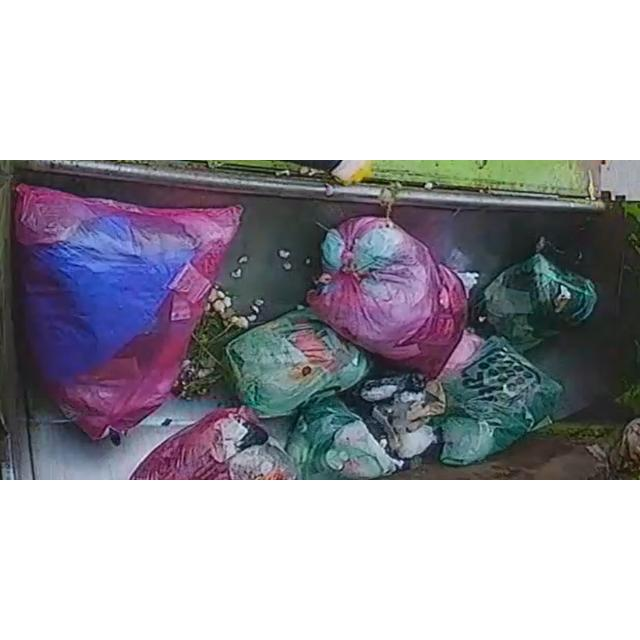general_trashbag: (225, 309, 369, 418), (440, 338, 562, 465), (479, 251, 596, 354), (286, 398, 396, 479)
other_trashbag: (15, 184, 242, 440), (306, 218, 468, 378), (131, 408, 296, 480)
